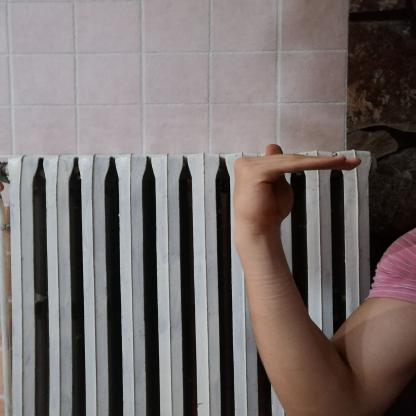KHAA: (214, 135, 382, 246)
